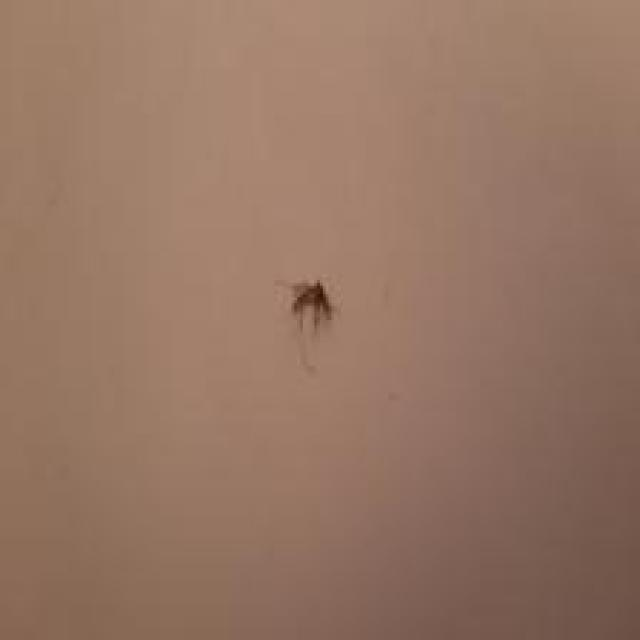Culex: (287, 277, 336, 374)
